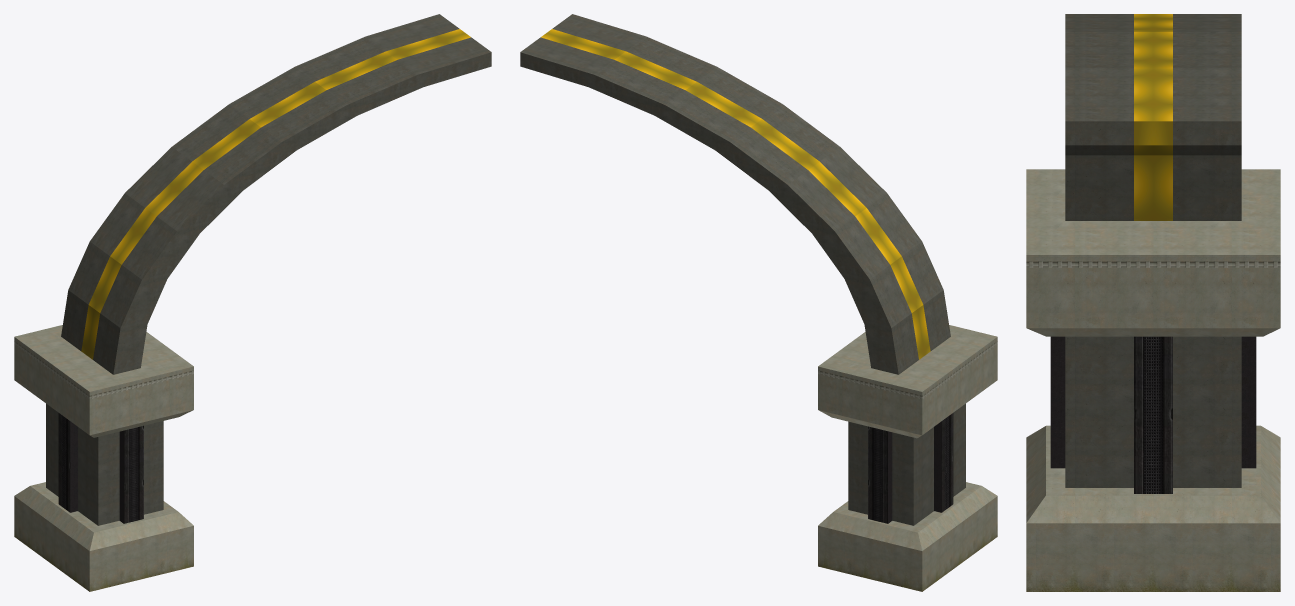
Rendered from enter_arch.fbx.
The picture shows the model from 3 angles, left to right: view 1: azimuth 30°, elevation 25°; view 2: azimuth 150°, elevation 25°; view 3: azimuth 270°, elevation 25°; orthographic projection. The views are drawn at different scales.
Visible parts, largest first — view 1: Object; view 2: Object; view 3: Object.
Boxes of the visible parts, x1,y1,x2,y2 form: Object: (14,14,491,591); Object: (520,14,997,591); Object: (1026,14,1280,591).
Bounding box in the file's own units: 16450 × 16350 × 5200.
